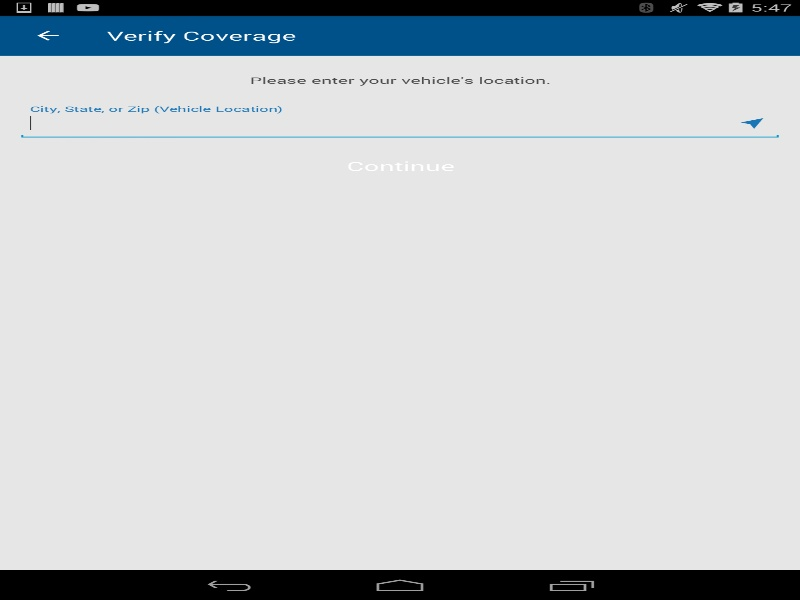Button: (21, 152, 778, 182), (10, 15, 85, 55), (725, 110, 778, 135)
Input: (16, 111, 783, 139)
